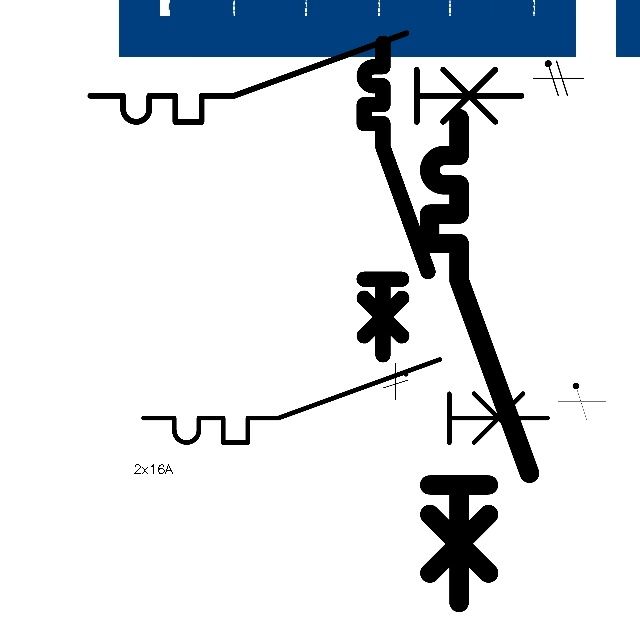interruptor_termomagnetico: (417, 106, 541, 615), (79, 22, 532, 133), (133, 349, 558, 453), (356, 35, 436, 363)
